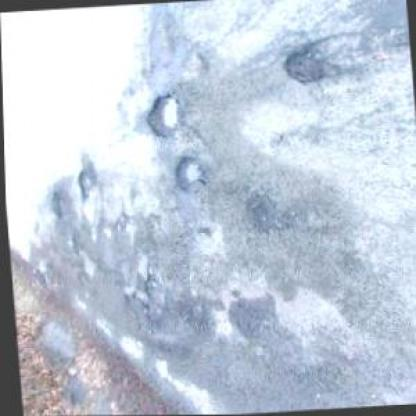pothole: (223, 294, 273, 337), (139, 92, 180, 139), (241, 191, 279, 236), (280, 47, 323, 85), (166, 153, 206, 190), (173, 297, 207, 334), (72, 168, 92, 202), (46, 188, 65, 218), (140, 273, 157, 291), (128, 288, 146, 305)
